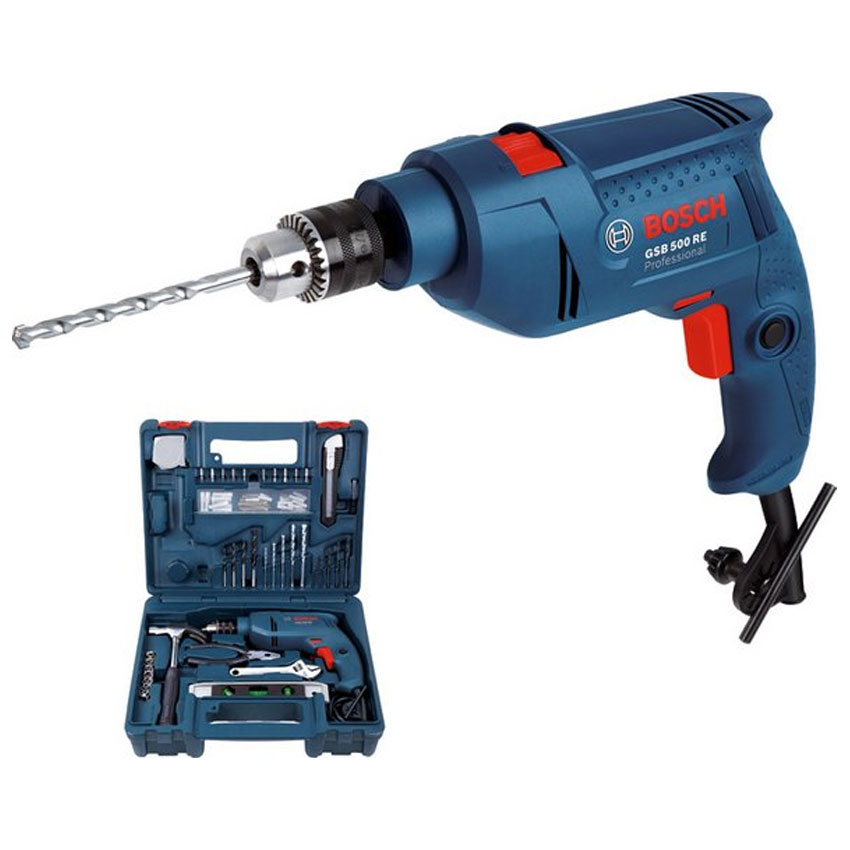Bosch: (636, 190, 734, 241)
